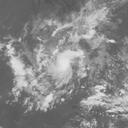cyclone: (8, 2, 114, 112)
